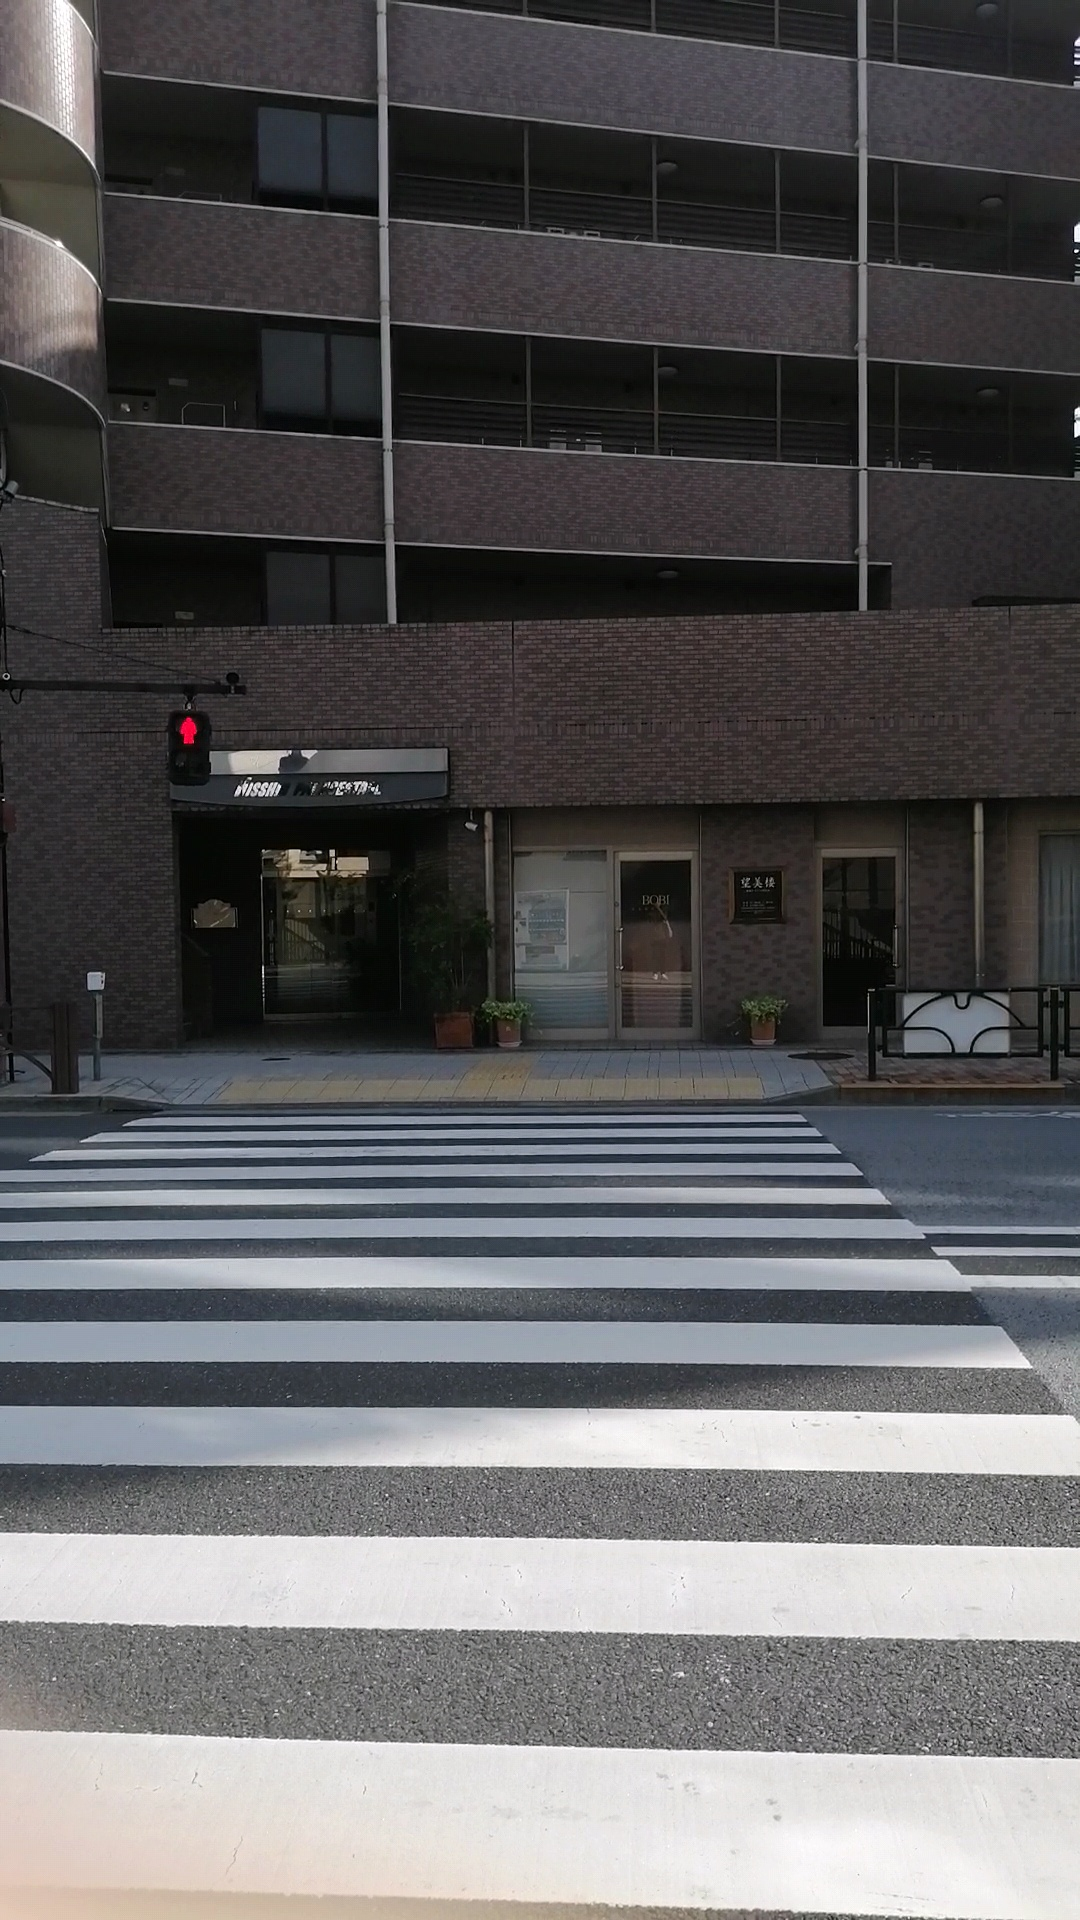red: (167, 709, 210, 787)
